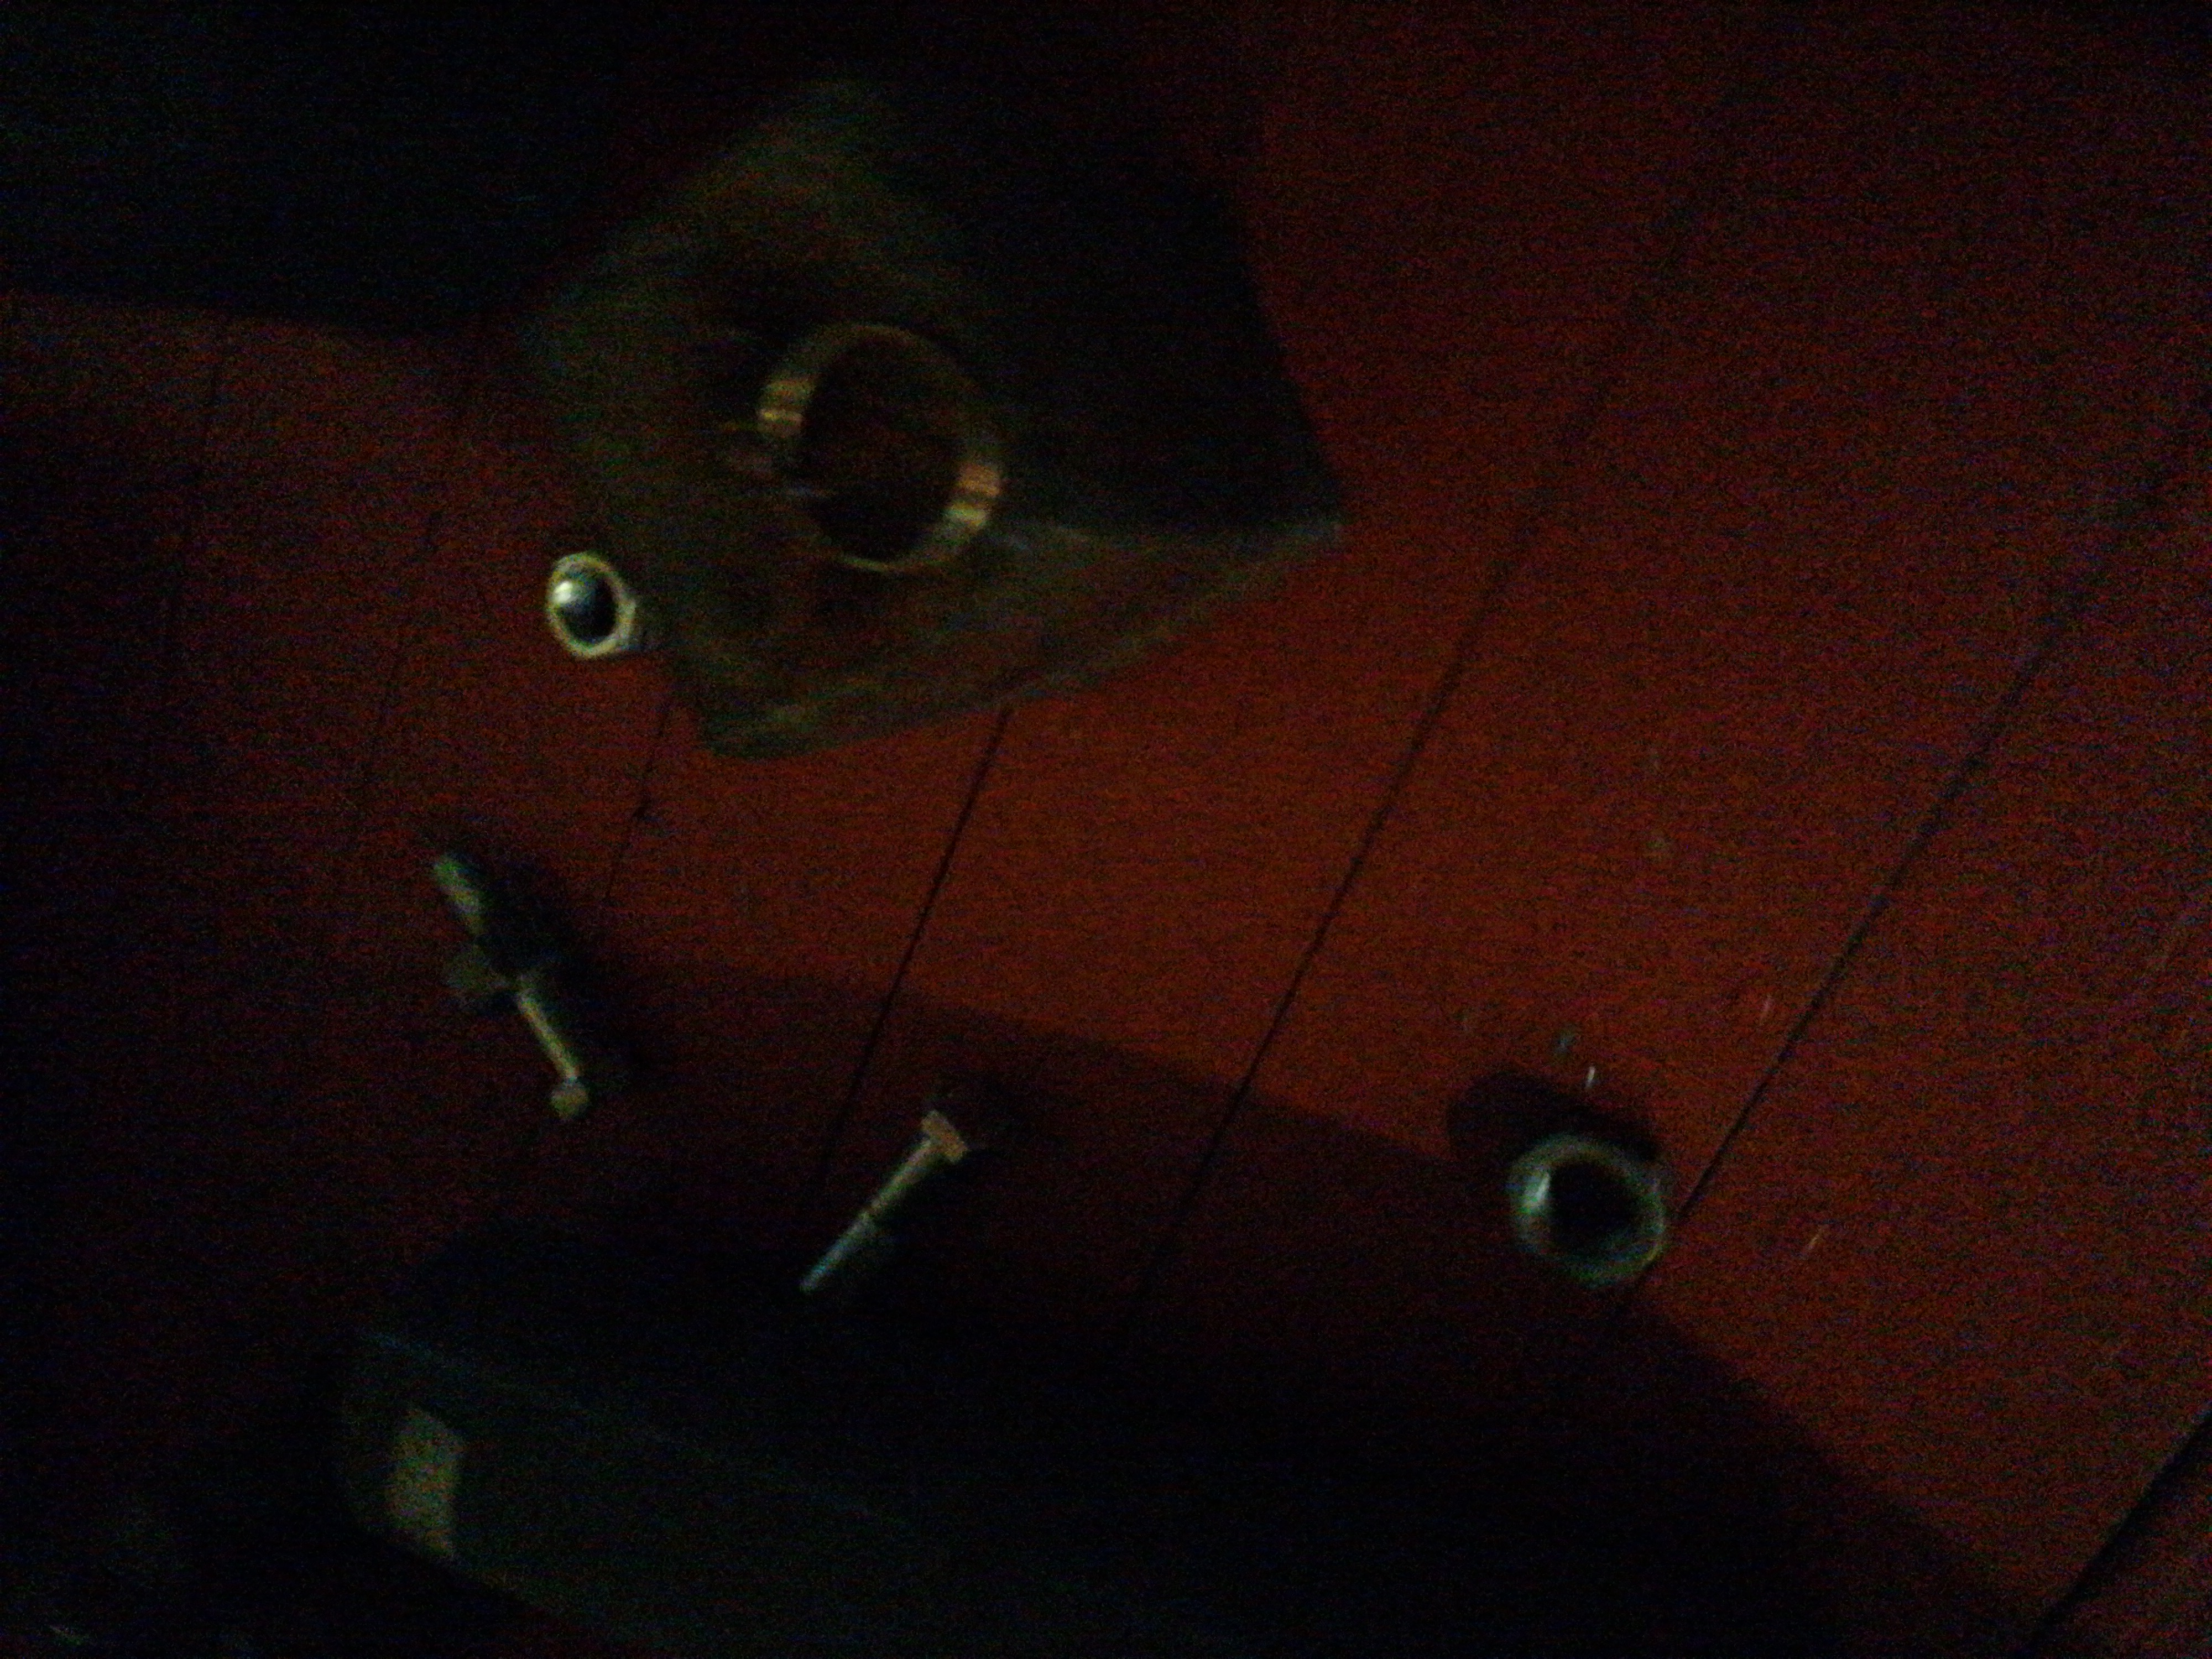bolt: (432, 847, 629, 1124), (791, 1079, 989, 1309)
led_block: (528, 71, 1355, 758), (14, 1453, 362, 1659)
nut: (1507, 1126, 1674, 1290), (442, 908, 575, 1012), (536, 549, 660, 655)
pipe: (320, 1230, 1838, 1659), (7, 0, 608, 333)
